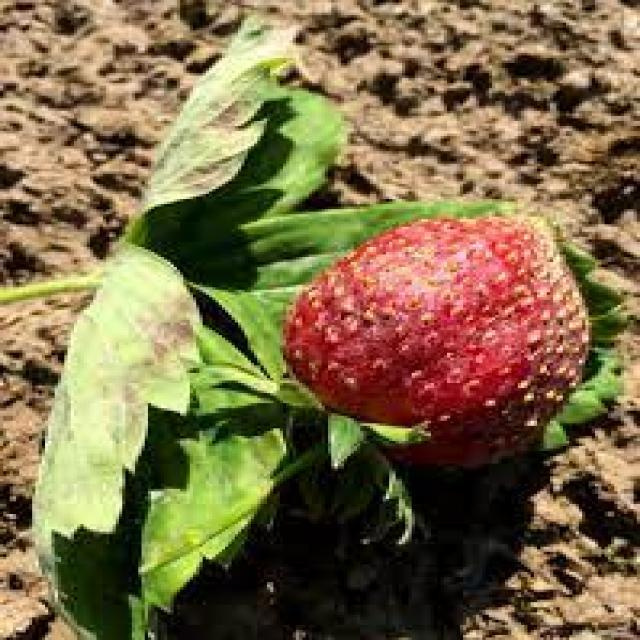Oído: (296, 188, 584, 464)
